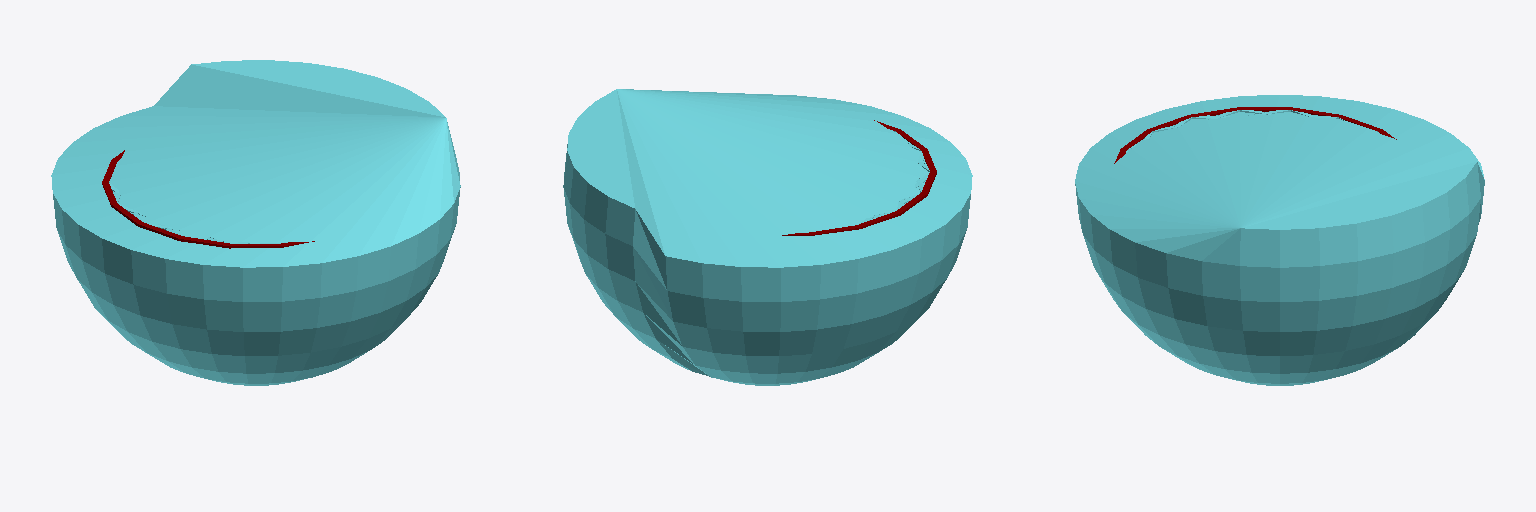
Rendered from aimPowerUp.obj.
3 renders of one model, left to right at view 1: azimuth 30°, elevation 25°; view 2: azimuth 150°, elevation 25°; view 3: azimuth 270°, elevation 25°, orthographic.
Parts seen in each view (by area): view 1: Sphere001, Tube001; view 2: Sphere001, Tube001; view 3: Sphere001, Tube001.
Boxes of the visible parts, x1,y1,x2,y2 form: Sphere001: [51, 60, 460, 385]; Tube001: [102, 150, 314, 248]; Sphere001: [563, 89, 972, 385]; Tube001: [782, 120, 936, 235]; Sphere001: [1075, 95, 1484, 385]; Tube001: [1114, 107, 1396, 163].
Bounding box in the file's own units: 47.24 × 28.23 × 47.24.